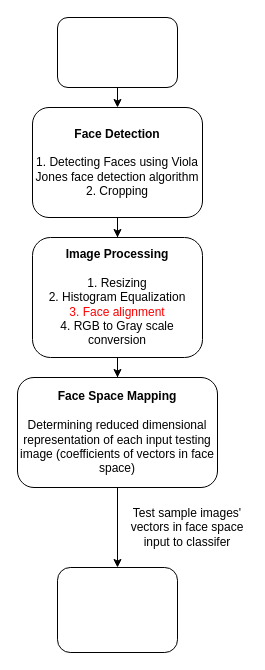
Some shapes in this 265 by 670 pixel diagram are drawn without their labels. The centre of each missing label's shape, as x and y in pixels:
"Classification Using trained classifier for face recognition" goes at point (117, 609).
"Test Images Input (Group Photos)" goes at point (117, 52).
